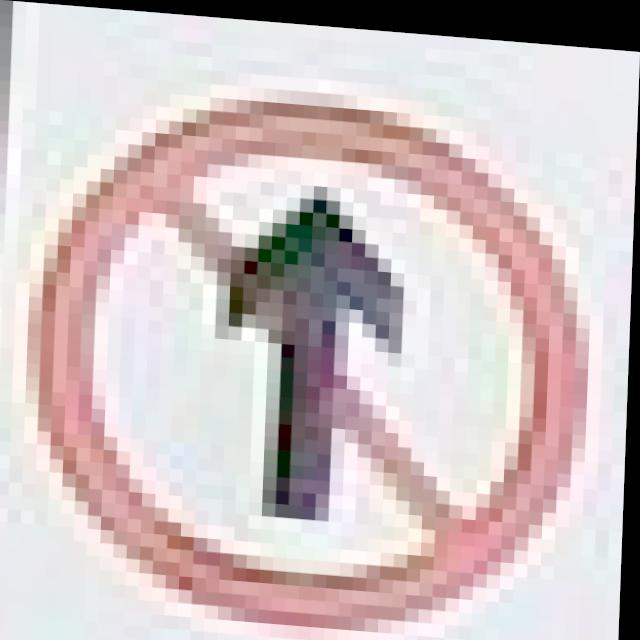STRAIGHT_PROHIBITED: (7, 41, 634, 640)
